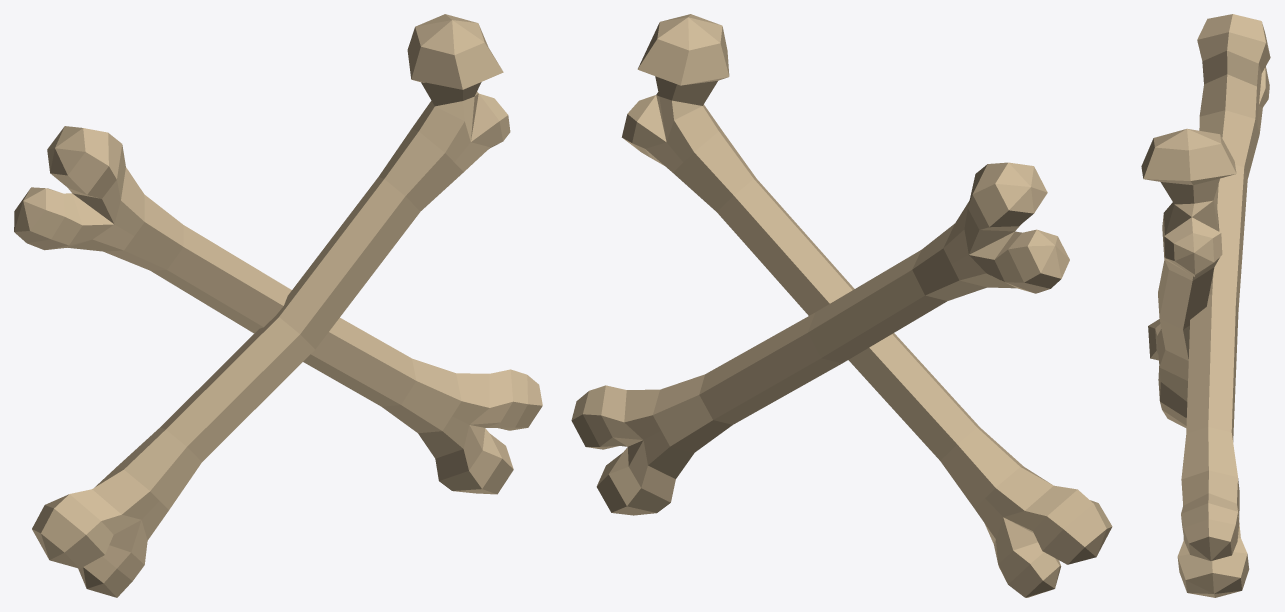
File: SM_Icon_Bones_01.fbx
3 renders of one model, left to right at view 1: azimuth 30°, elevation 25°; view 2: azimuth 150°, elevation 25°; view 3: azimuth 270°, elevation 25°, orthographic. The views are drawn at different scales.
Parts seen in each view (by area): view 1: SM_Icon_Bones_01; view 2: SM_Icon_Bones_01; view 3: SM_Icon_Bones_01.
Part boxes in pixels (bbox=[...]): SM_Icon_Bones_01: bbox=[14, 14, 542, 597]; SM_Icon_Bones_01: bbox=[571, 14, 1112, 597]; SM_Icon_Bones_01: bbox=[1141, 14, 1270, 597].
Size of the model in its own units: 64.89 by 59.76 by 15.47.
